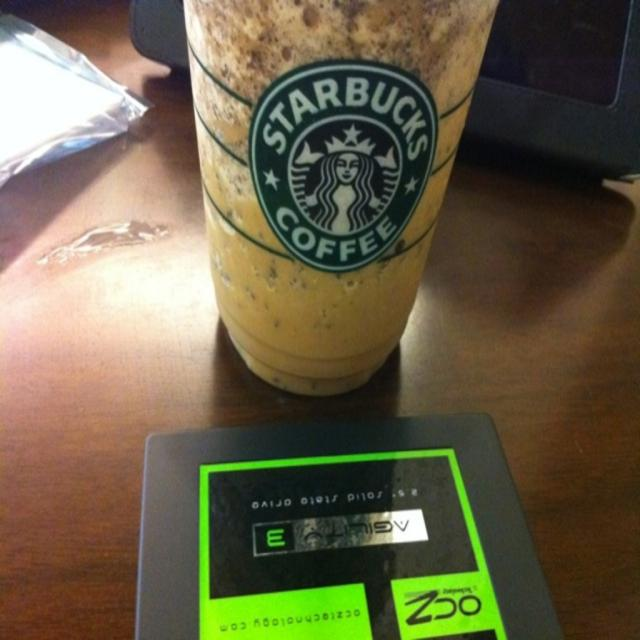Coffee: (184, 0, 503, 387)
